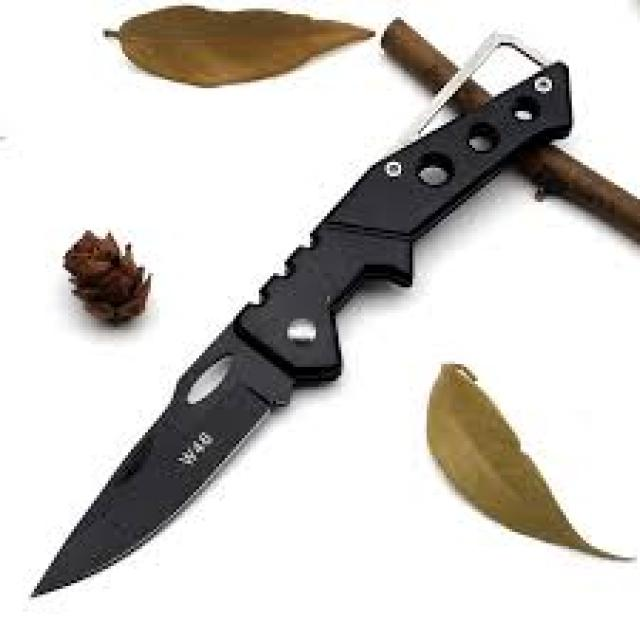Knife: (31, 65, 566, 594)
